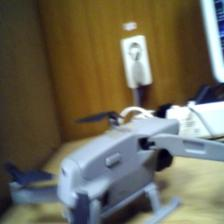drone: (9, 101, 224, 224)
